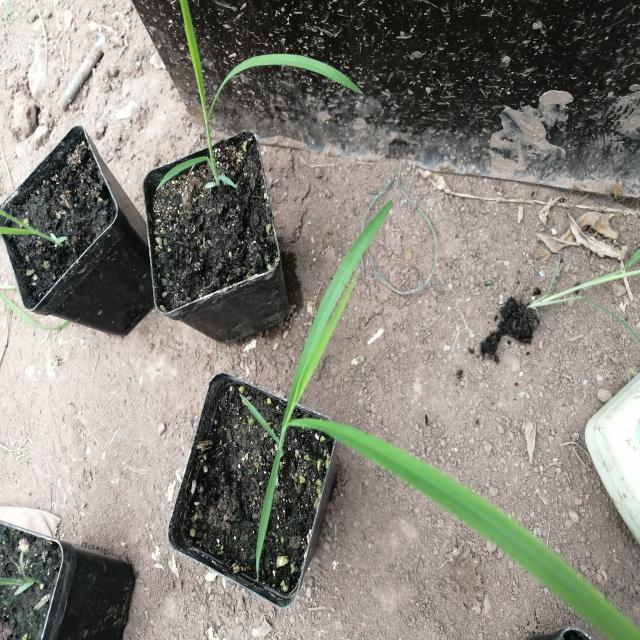crabgrass: (230, 207, 589, 615)
